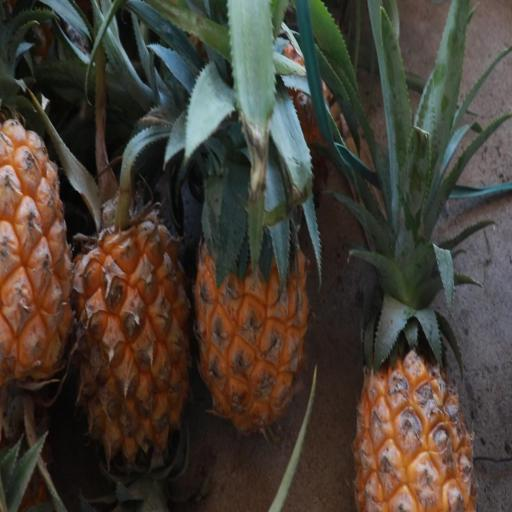Pineapple - v8 v1: (349, 139, 482, 512), (66, 168, 198, 486), (188, 119, 314, 443), (1, 100, 77, 420)
